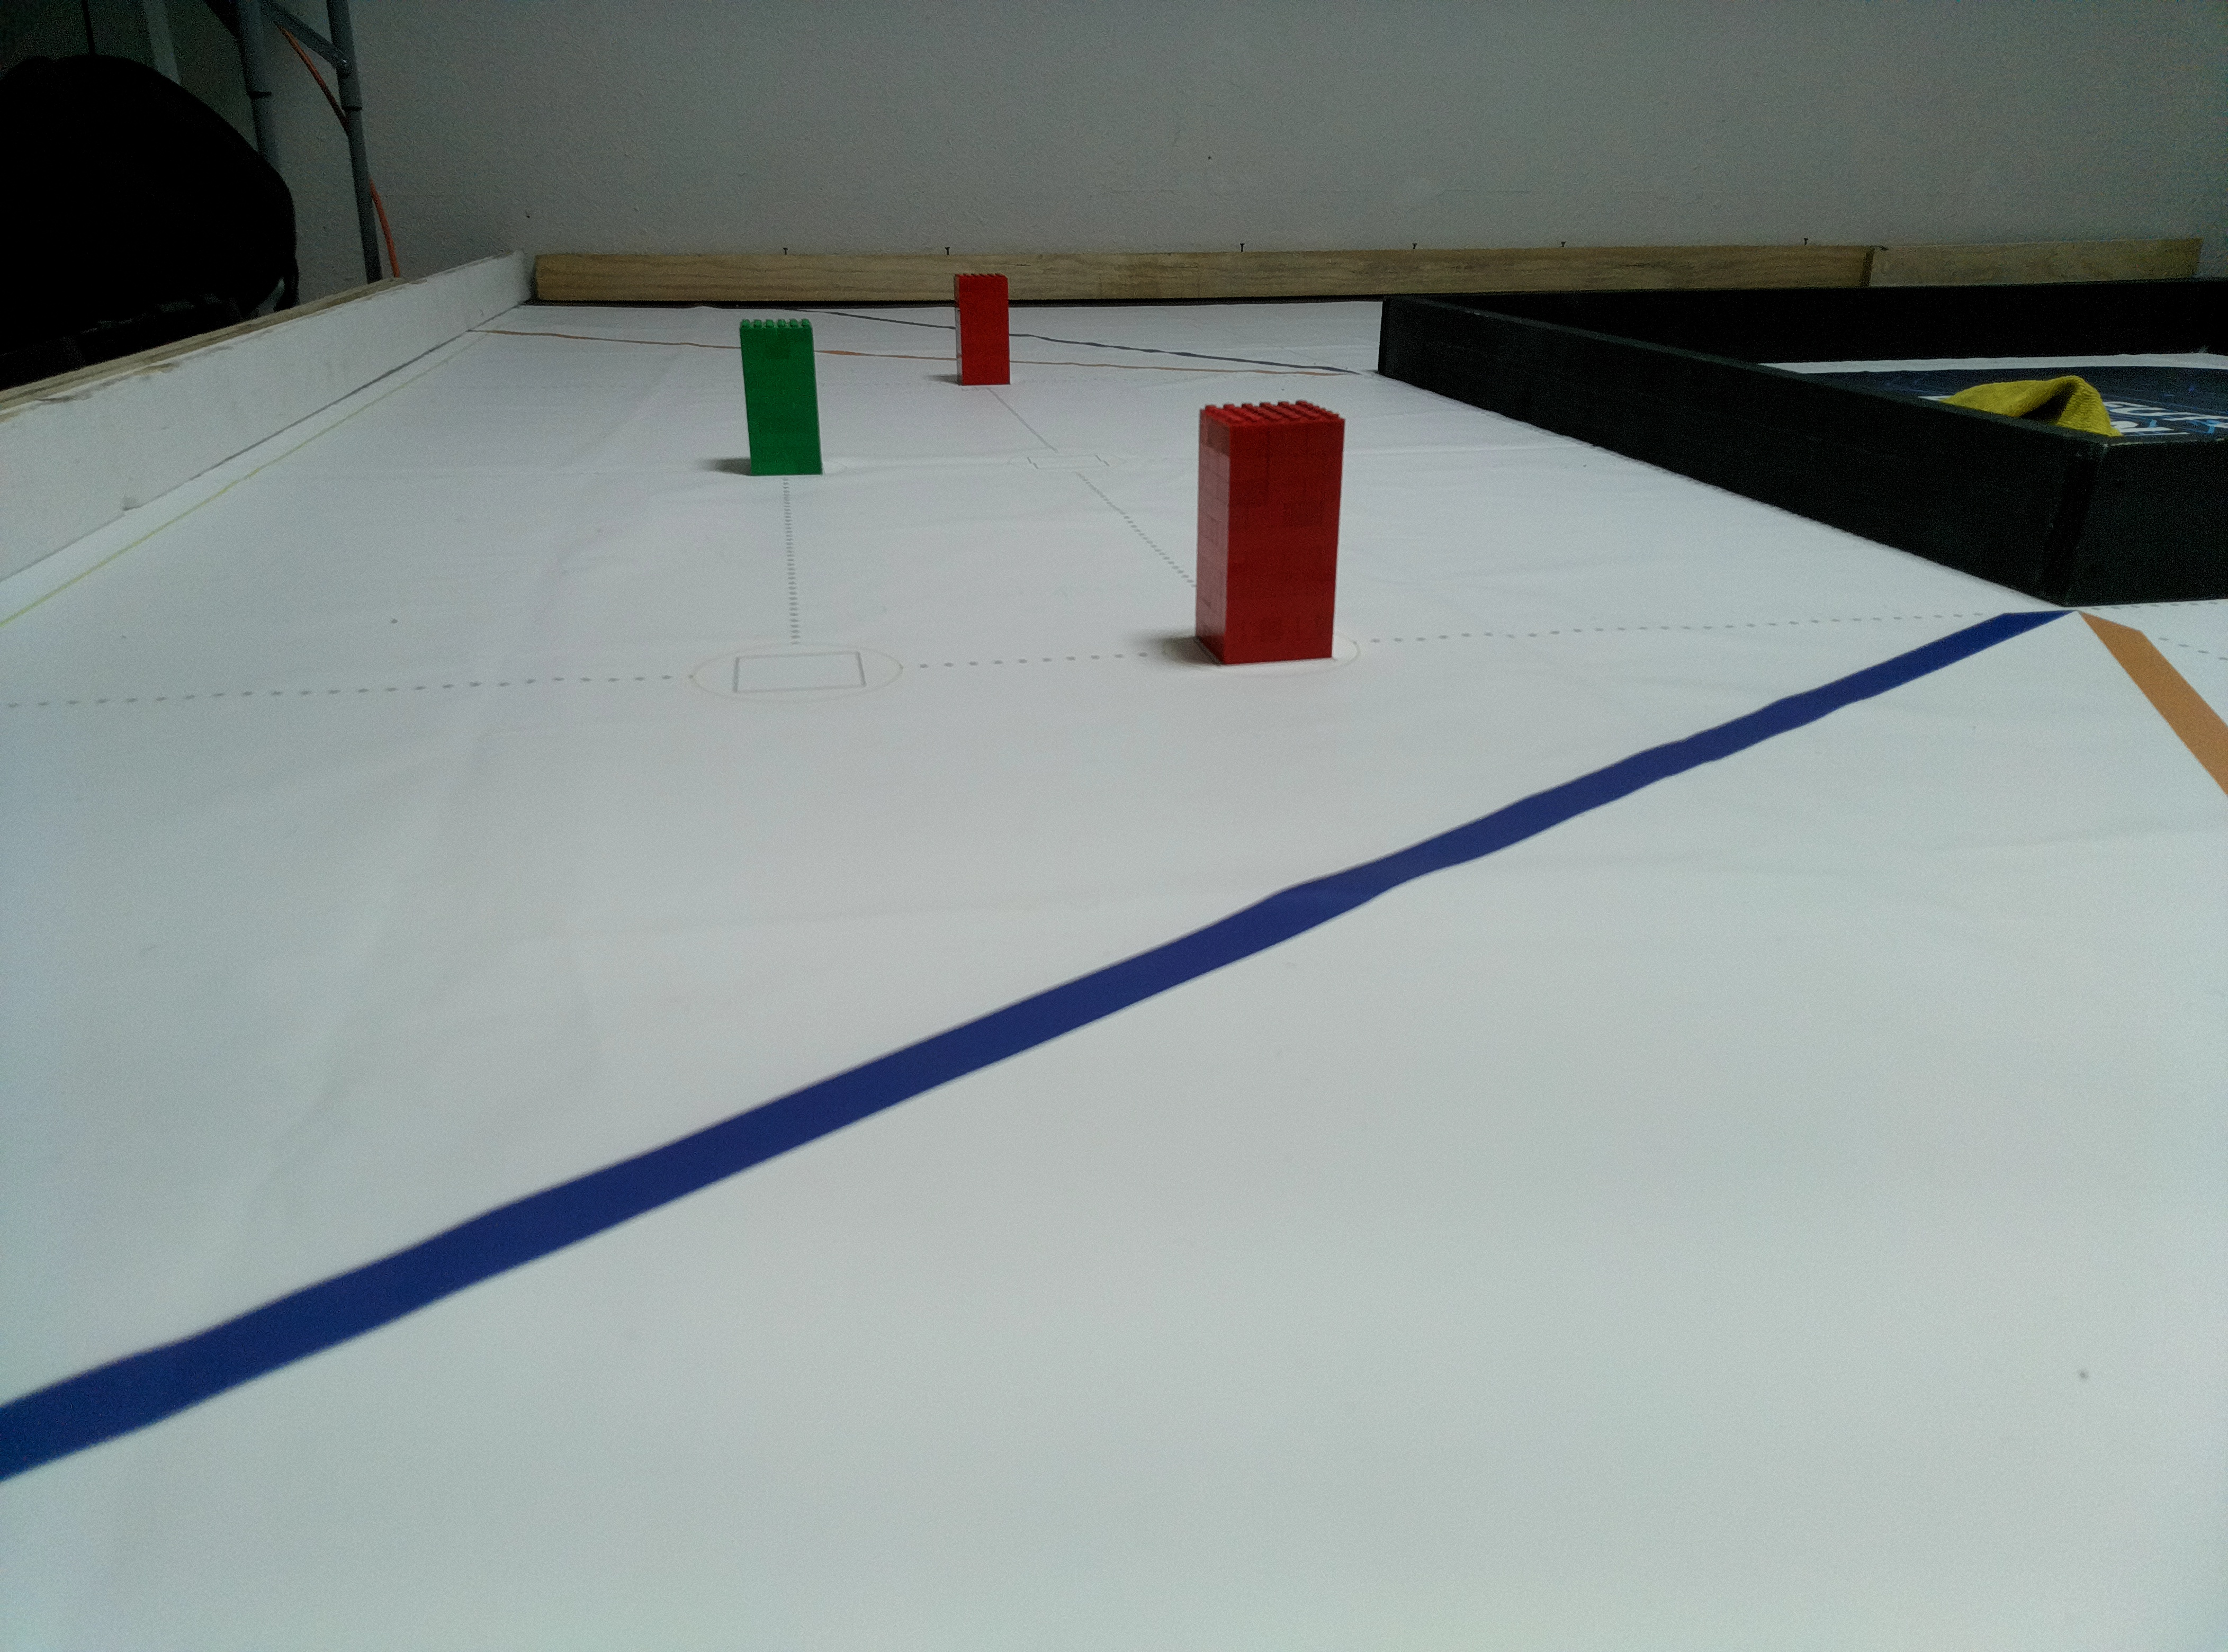greenbox: (736, 318, 826, 475)
redbox: (1194, 399, 1343, 665), (951, 272, 1012, 385)
